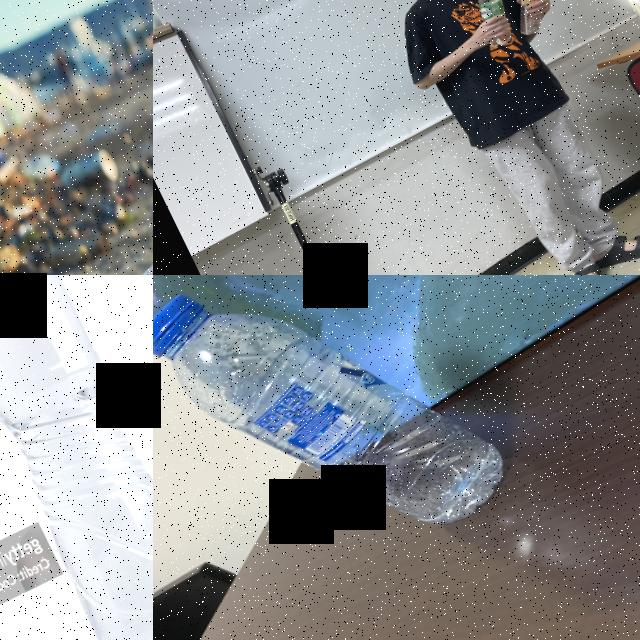bottle: (153, 275, 535, 631), (0, 275, 153, 640), (0, 136, 153, 275), (458, 0, 521, 53), (498, 0, 561, 40)
